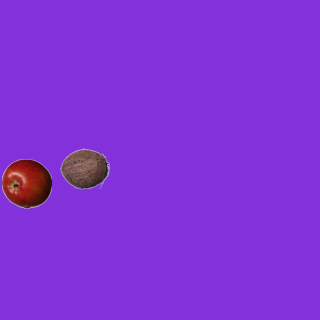Apple Braeburn: (1, 158, 51, 208)
Cocos: (59, 143, 109, 193)
